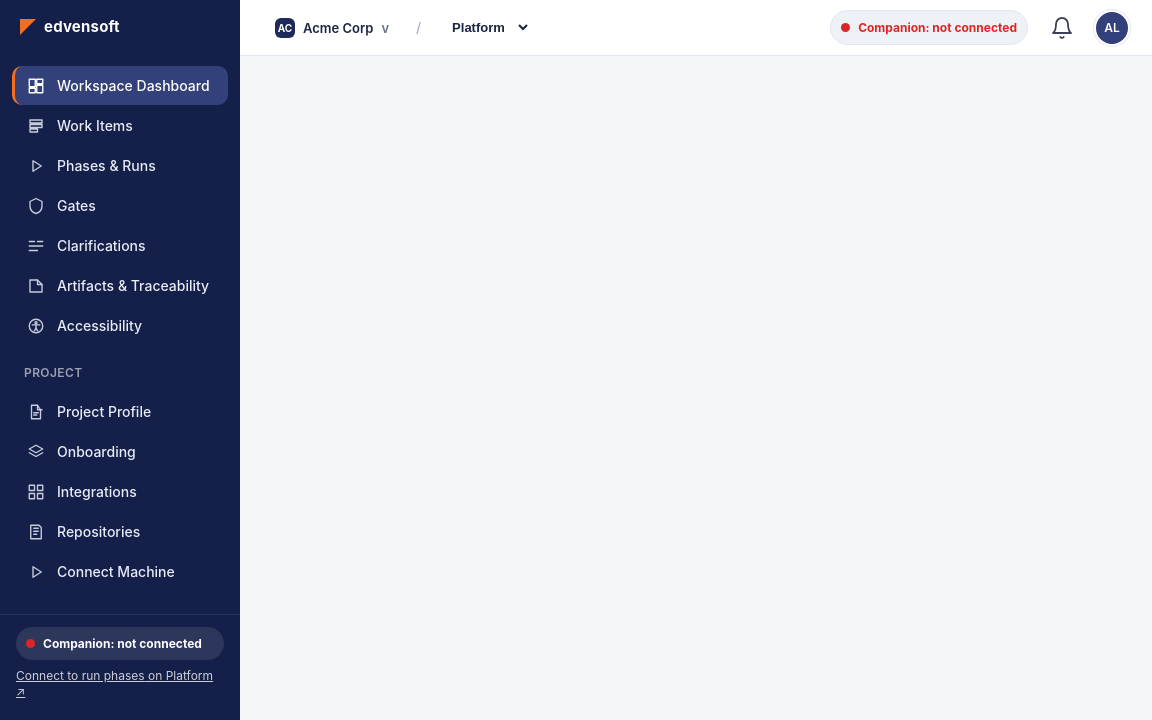
Test: AppShell account menu — logout › closes the menu on Escape
The image size is (1152, 720).
Click the button with aria-label "account menu for ada" at (1112, 28), box top-left (1096, 12), bottom-right (1128, 44)
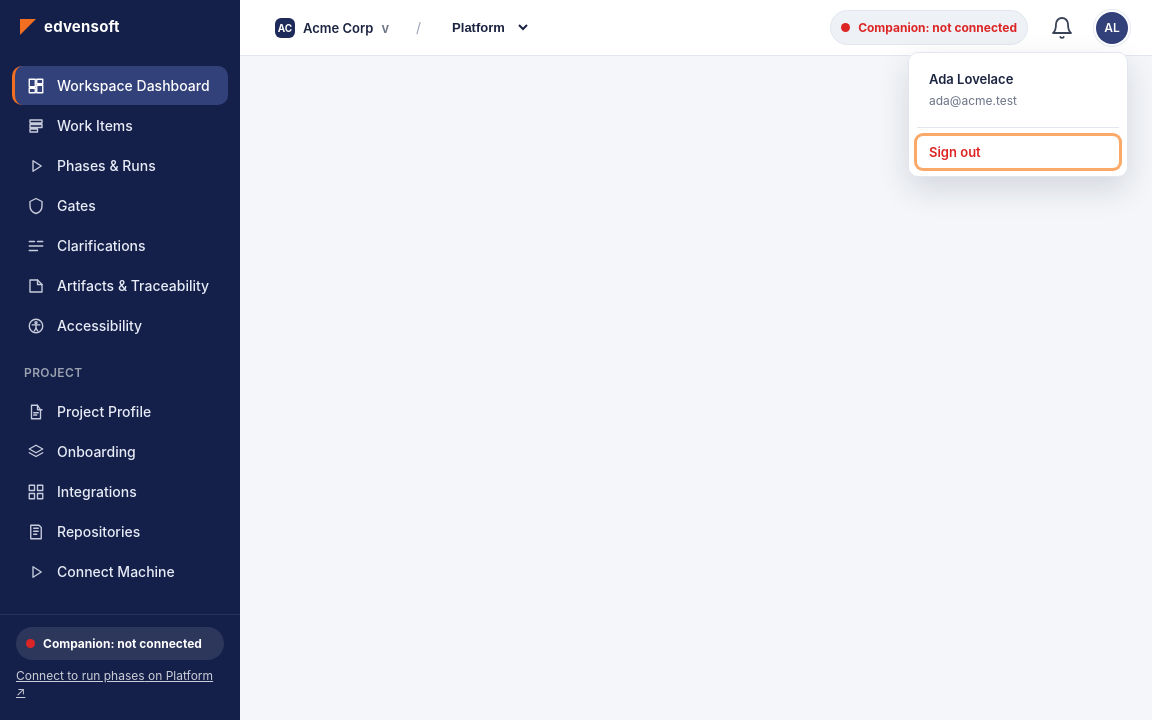
Check: the menu item "Sign out" is shown, box top-left (917, 136), bottom-right (1119, 168)
Press Escape
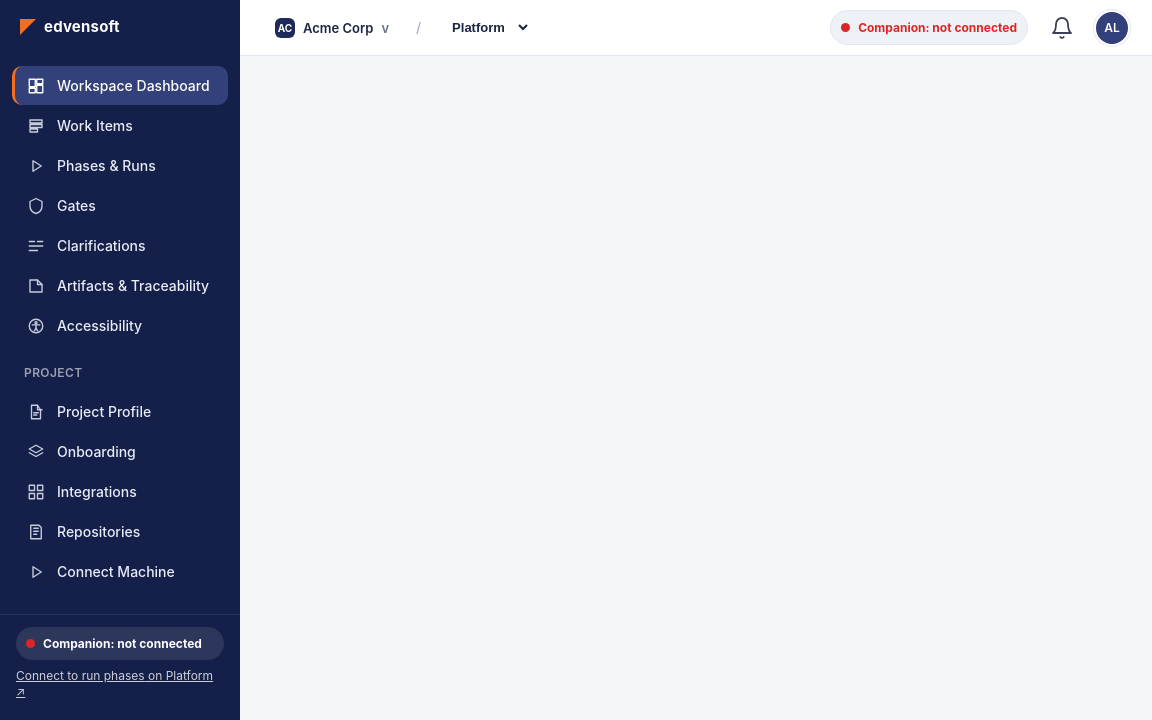
Check: the menu item "Sign out" is gone
